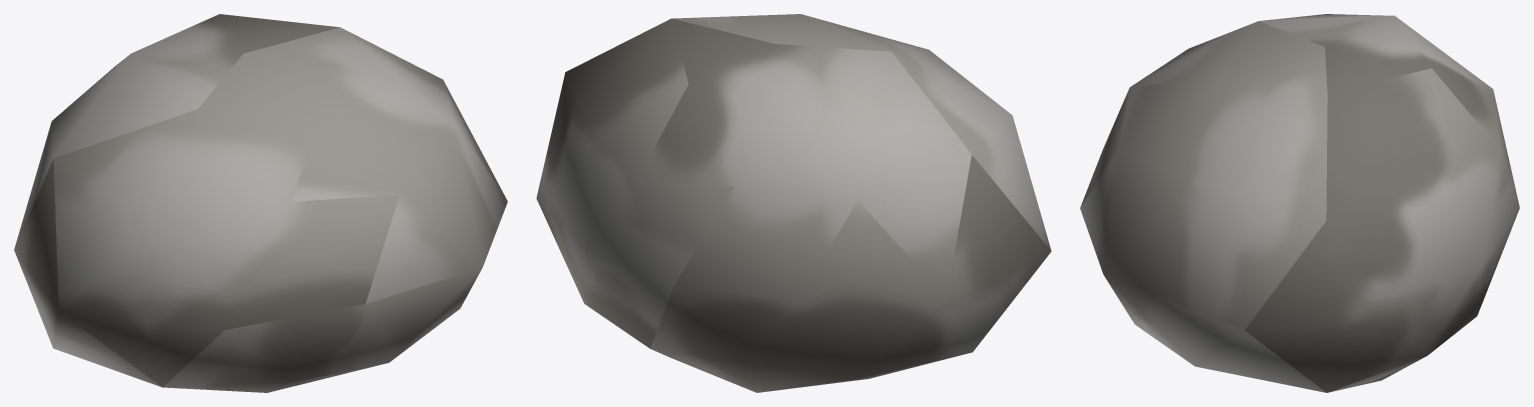
File: Rock.fbx
3 renders of one model, left to right at view 1: azimuth 30°, elevation 25°; view 2: azimuth 150°, elevation 25°; view 3: azimuth 270°, elevation 25°, orthographic. The views are drawn at different scales.
Parts seen in each view (by area): view 1: Rock; view 2: Rock; view 3: Rock.
Boxes of the visible parts, left/top/right/bottom form: Rock: left=14, top=14, right=507, bottom=392; Rock: left=536, top=14, right=1051, bottom=392; Rock: left=1080, top=14, right=1519, bottom=392.
Size of the model in its own units: 307 by 206 by 260.
Materials: 1 (1 with a texture image).
